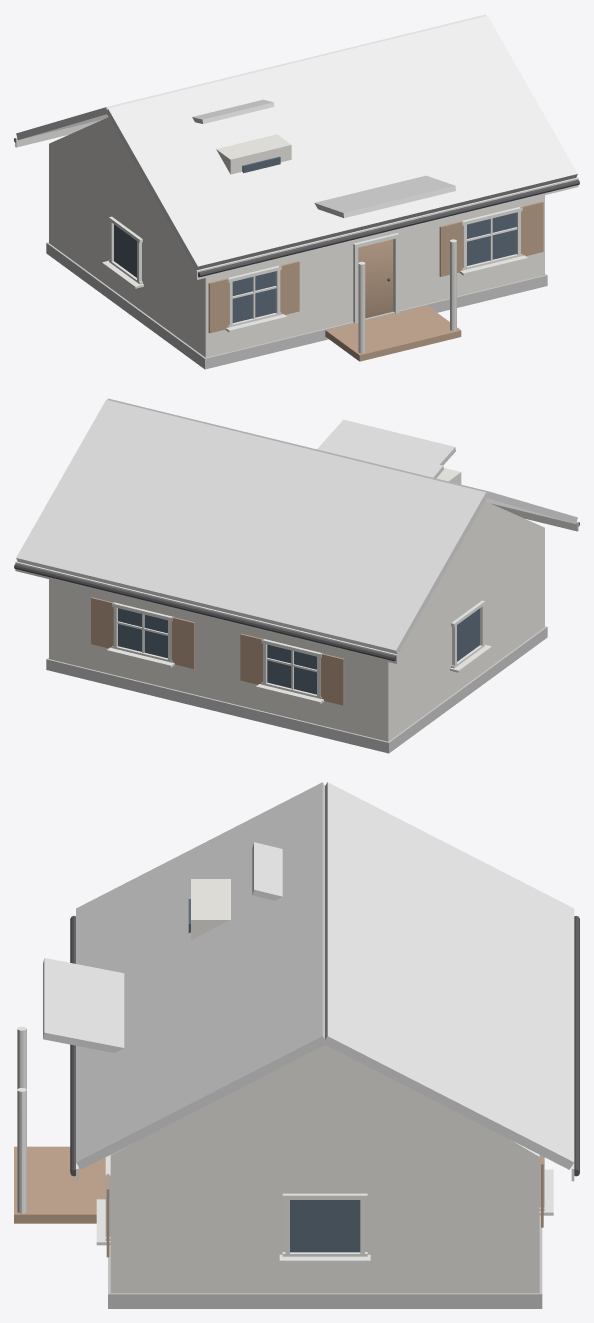
File: house_c.glb
The picture shows the model from 3 angles, top to bottom: view 1: azimuth 30°, elevation 25°; view 2: azimuth 150°, elevation 25°; view 3: azimuth 270°, elevation 25°; orthographic projection. The views are drawn at different scales.
Visible parts, largest first — view 1: house_c_pbr_roof, house_c_pbr_plaster, house_c_pbr_wood, house_c_trim, house_c_pbr_concrete, house_c_window_glass, house_c_metal_dark; view 2: house_c_pbr_roof, house_c_pbr_plaster, house_c_trim, house_c_pbr_concrete, house_c_pbr_wood, house_c_window_glass, house_c_metal_dark; view 3: house_c_pbr_roof, house_c_pbr_plaster, house_c_pbr_concrete, house_c_pbr_wood, house_c_trim, house_c_window_glass, house_c_metal_dark.
Part boxes in pixels (x1=…): house_c_pbr_roof: x1=16, y1=14, x2=577, y2=270; house_c_pbr_plaster: x1=49, y1=117, x2=544, y2=357; house_c_pbr_wood: x1=208, y1=201, x2=543, y2=361; house_c_trim: x1=15, y1=119, x2=578, y2=353; house_c_pbr_concrete: x1=46, y1=242, x2=547, y2=369; house_c_window_glass: x1=114, y1=156, x2=516, y2=322; house_c_metal_dark: x1=14, y1=138, x2=579, y2=281; house_c_pbr_roof: x1=16, y1=398, x2=577, y2=654; house_c_pbr_plaster: x1=49, y1=468, x2=544, y2=741; house_c_trim: x1=15, y1=503, x2=578, y2=704; house_c_pbr_concrete: x1=46, y1=626, x2=547, y2=753; house_c_pbr_wood: x1=91, y1=597, x2=344, y2=705; house_c_window_glass: x1=118, y1=608, x2=479, y2=694; house_c_metal_dark: x1=14, y1=522, x2=579, y2=661; house_c_pbr_roof: x1=43, y1=782, x2=574, y2=1169; house_c_pbr_plaster: x1=110, y1=879, x2=539, y2=1293; house_c_pbr_concrete: x1=108, y1=1215, x2=542, y2=1308; house_c_pbr_wood: x1=14, y1=1146, x2=543, y2=1257; house_c_trim: x1=17, y1=1026, x2=574, y2=1263; house_c_window_glass: x1=188, y1=899, x2=360, y2=1252; house_c_metal_dark: x1=70, y1=916, x2=579, y2=1176.
Bounding box in the file's own units: 11.25 × 5.87 × 10.55.
